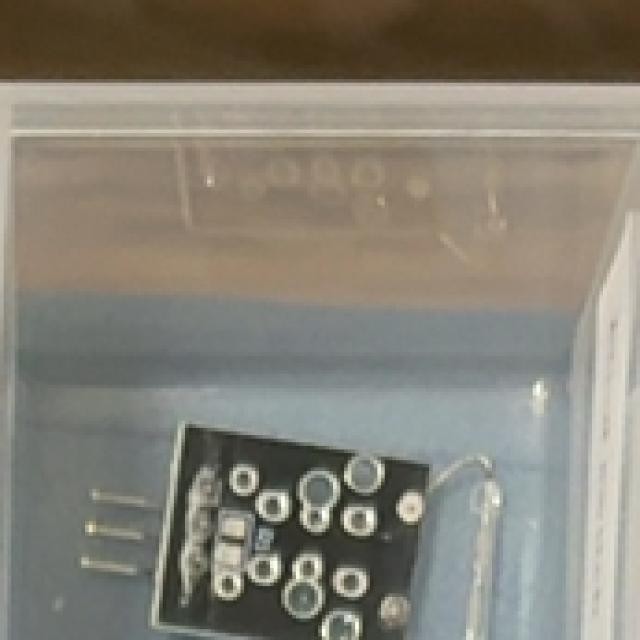IC: (70, 420, 506, 640)
